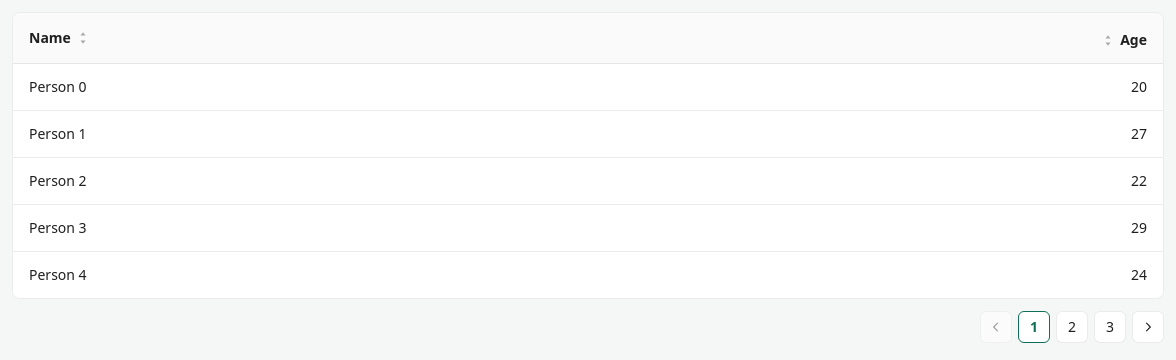
Scenario: DataTable — pagination controls › navigates pages and disables prev on the first page
expect the button named "Previous page" is disabled: met, box [980,311,1012,343]
Click the button named "Page 3" at (1110, 327), box [1094,311,1126,343]
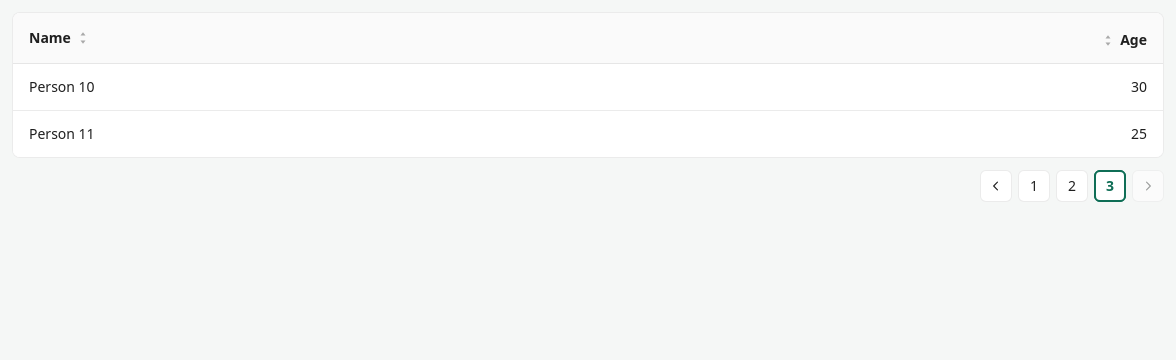
expect the number of rows is 3: met, box [13,13,1163,64]; [13,64,1163,111]; [13,111,1163,157]
expect the button named "Next page" is disabled: met, box [1132,170,1164,202]
